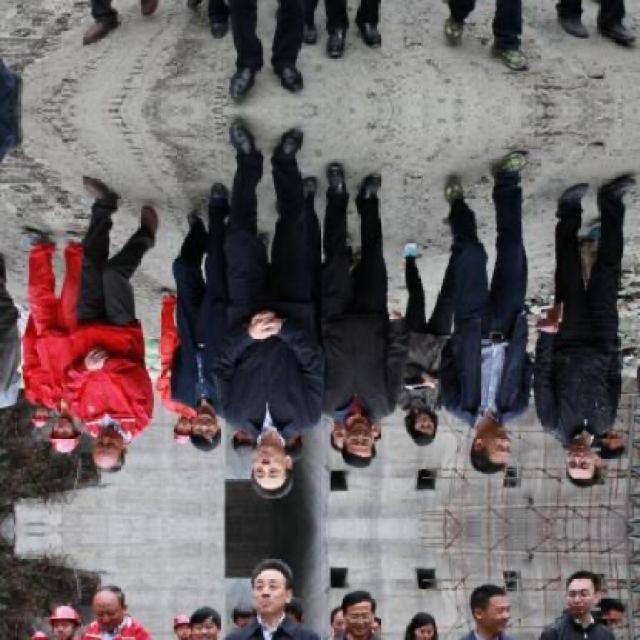con casco: (45, 421, 87, 461)
sin casco: (222, 417, 337, 505), (464, 418, 524, 489), (76, 421, 142, 482), (550, 552, 618, 605), (331, 415, 391, 474), (547, 444, 610, 499), (241, 554, 298, 612), (326, 575, 390, 624), (391, 409, 438, 458), (466, 574, 511, 620)
